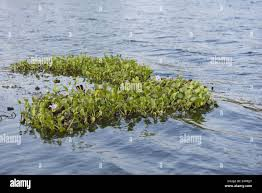water_hyacinth: (4, 53, 217, 135)
